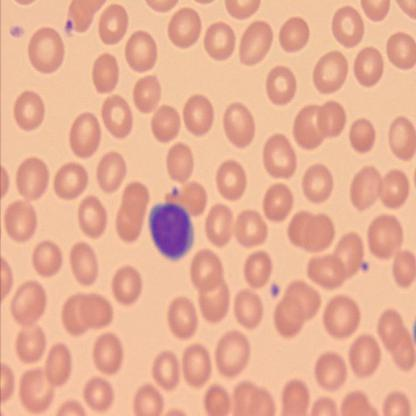Lymphocyte: (148, 202, 194, 262)
